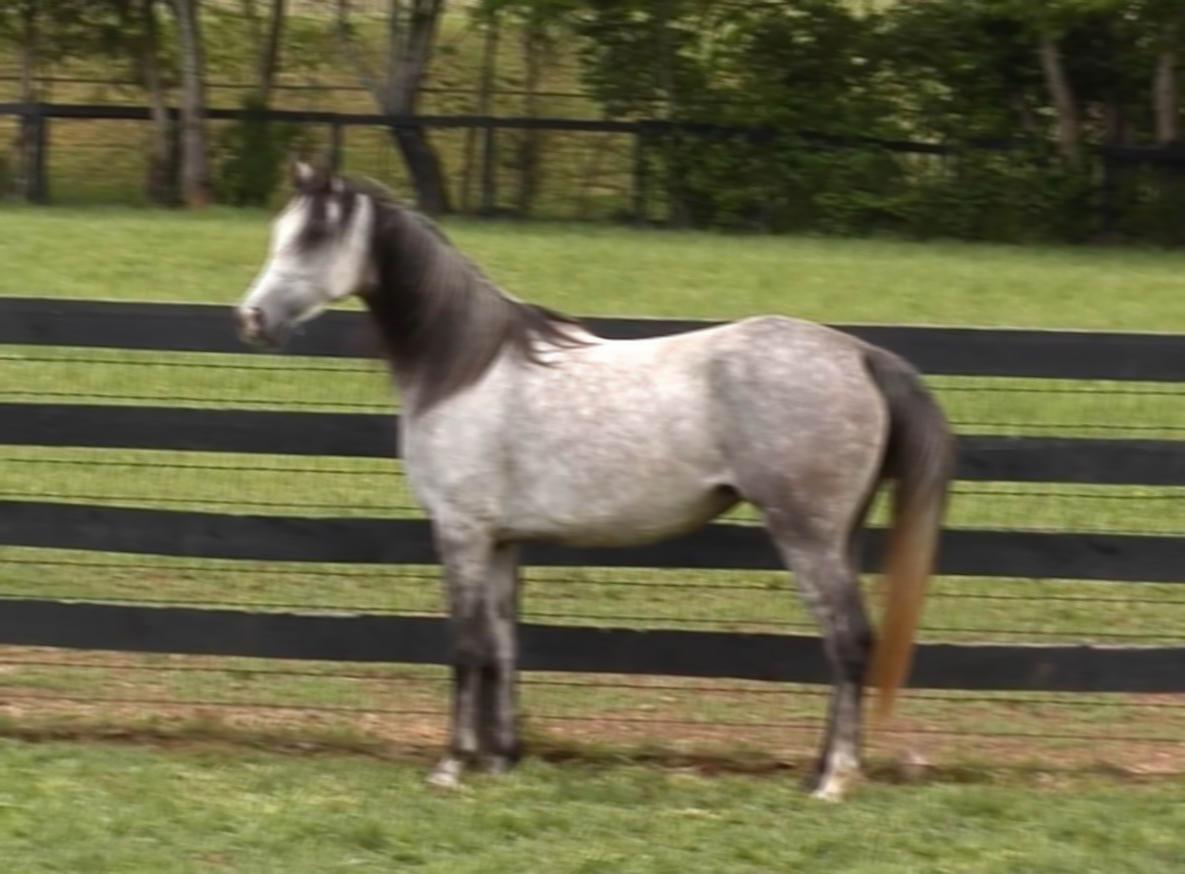horse: (225, 146, 968, 812)
